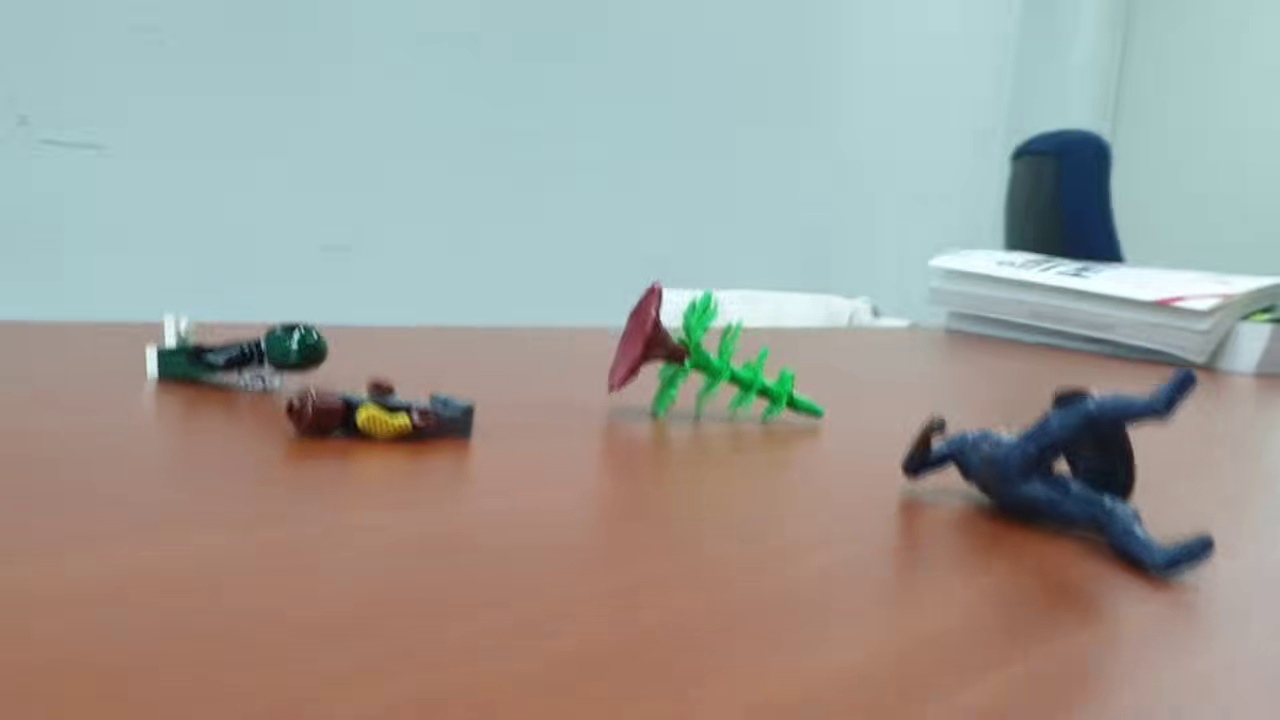people: (900, 368, 1220, 591), (139, 315, 327, 397), (281, 380, 475, 454)
tree: (601, 278, 824, 434)
